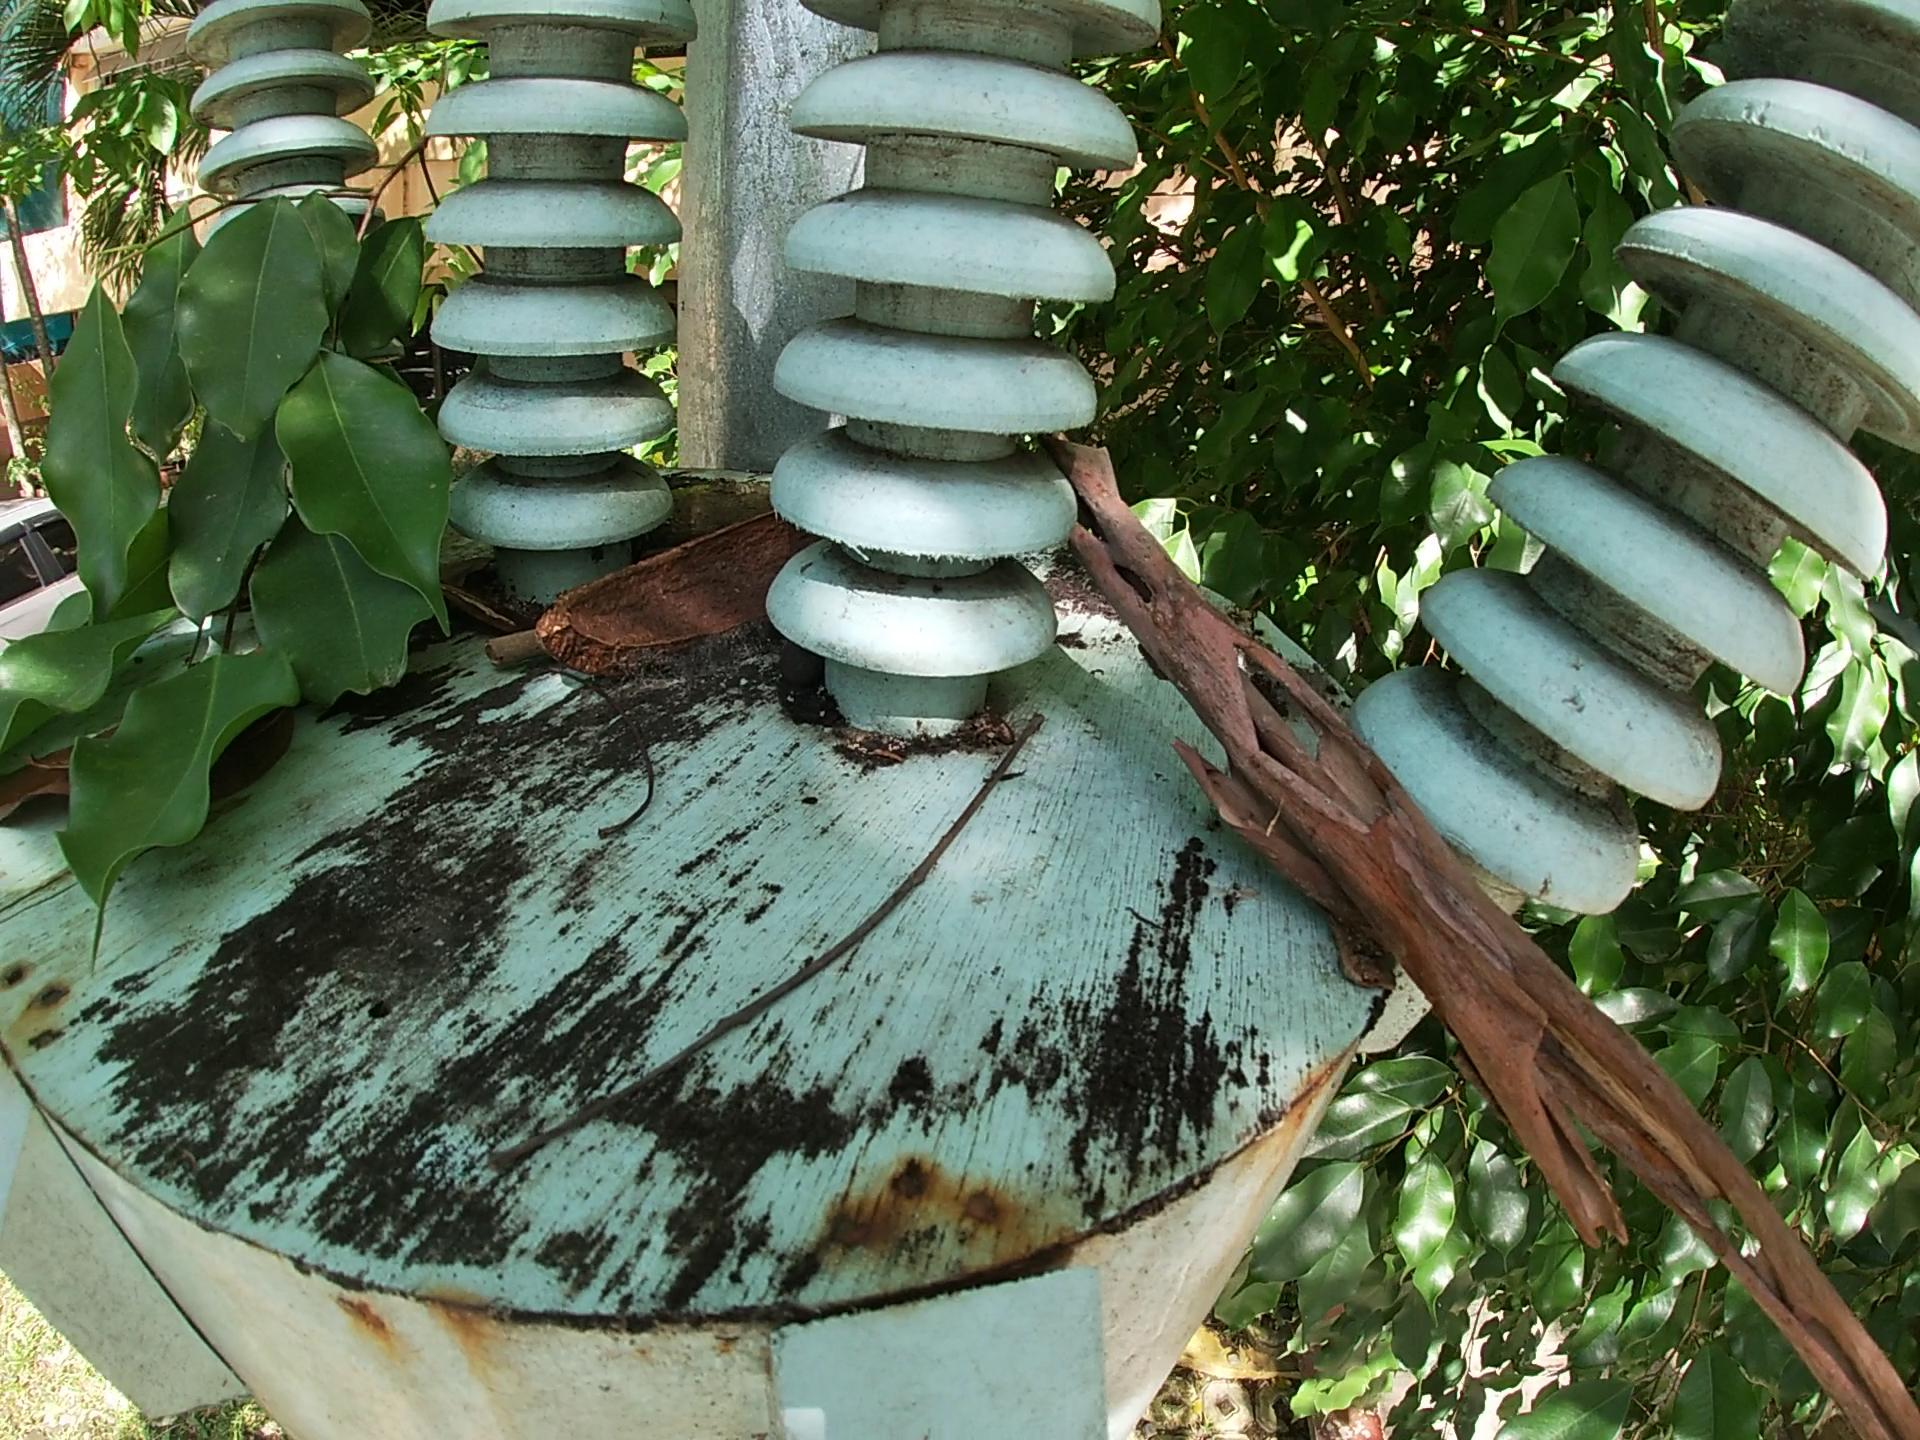branch with leaves: (21, 124, 469, 964)
leaf: (2, 722, 59, 858)
mahogany fruit: (540, 516, 800, 675)
tree branch: (1054, 427, 1914, 1429), (478, 717, 1079, 1190), (528, 667, 670, 852), (649, 470, 794, 548), (476, 644, 537, 688)
